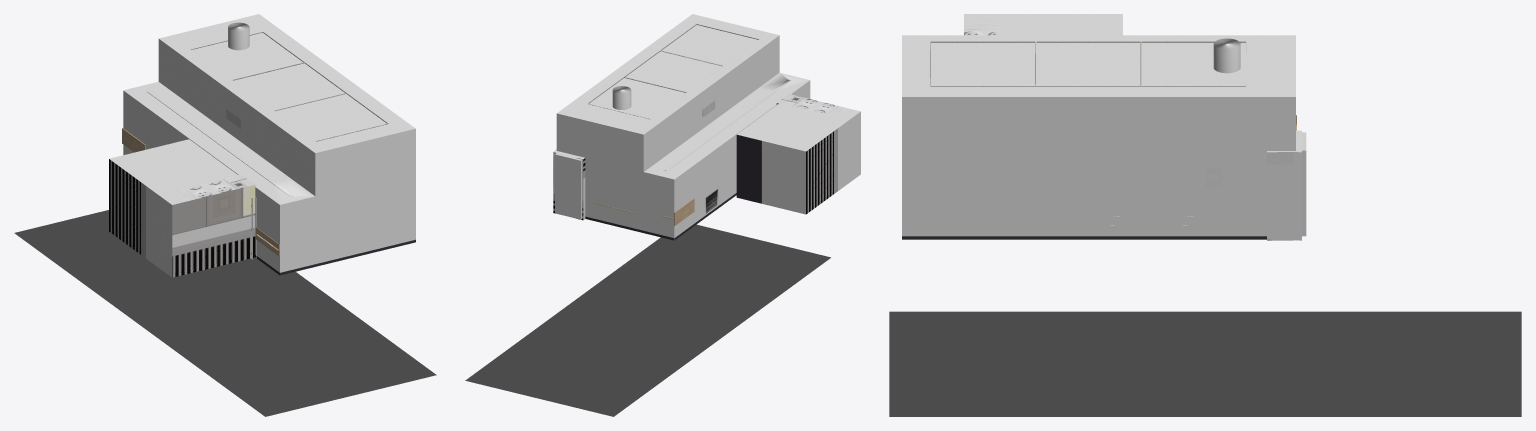
File: Arena V2.fbx
The picture shows the model from 3 angles, left to right: view 1: azimuth 30°, elevation 25°; view 2: azimuth 150°, elevation 25°; view 3: azimuth 270°, elevation 25°; orthographic projection. The views are drawn at different scales.
Visible parts, largest first — view 1: walls, floor, Cylinder.001; view 2: walls, floor, Cube.017, Cylinder.001; view 3: walls, floor, Cylinder.001.
Part boxes in pixels (x1=…): walls: x1=109, y1=14, x2=415, y2=277; floor: x1=14, y1=210, x2=436, y2=416; Cylinder.001: x1=228, y1=22, x2=249, y2=50; walls: x1=553, y1=14, x2=860, y2=240; floor: x1=465, y1=224, x2=830, y2=416; Cube.017: x1=555, y1=153, x2=582, y2=219; Cylinder.001: x1=612, y1=86, x2=631, y2=109; walls: x1=902, y1=14, x2=1301, y2=240; floor: x1=889, y1=311, x2=1521, y2=416; Cylinder.001: x1=1213, y1=38, x2=1240, y2=73.
Bounding box in the file's own units: 873 × 941 × 1616.
